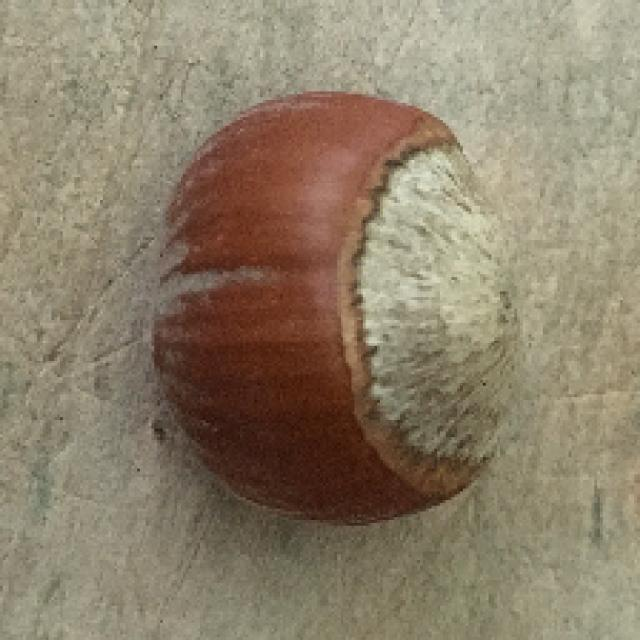QualityHazelnut: (146, 90, 526, 526)
